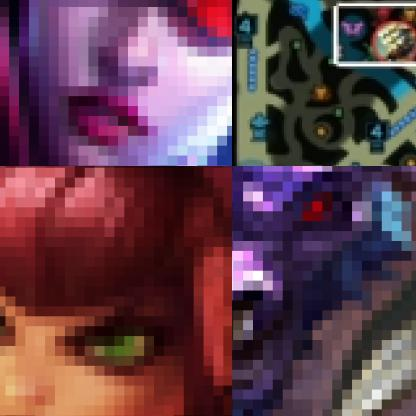Alistar: (232, 166, 415, 415)
Annie: (0, 166, 231, 415)
Master Yi: (373, 22, 415, 66)
Vayne: (0, 0, 231, 165)
